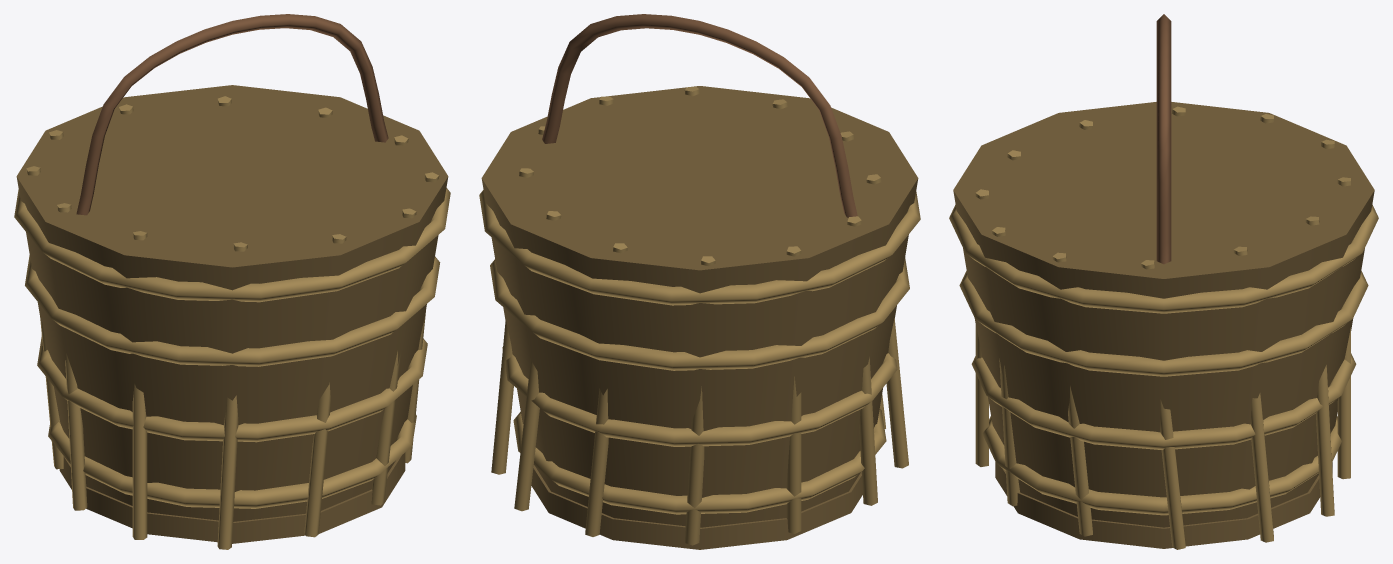
Rendered from stone_gatherer.glb.
The picture shows the model from 3 angles, left to right: view 1: azimuth 30°, elevation 25°; view 2: azimuth 150°, elevation 25°; view 3: azimuth 270°, elevation 25°; orthographic projection. The views are drawn at different scales.
Visible parts, largest first — view 1: part_0, part_1, part_2; view 2: part_0, part_1, part_2; view 3: part_0, part_1, part_2.
Part boxes in pixels (box(x1,y1,x2,y2)): part_0: box(16, 85, 448, 543); part_1: box(14, 96, 450, 549); part_2: box(76, 14, 388, 215); part_0: box(481, 86, 918, 549); part_1: box(479, 86, 920, 545); part_2: box(542, 14, 857, 217); part_0: box(953, 102, 1374, 548); part_1: box(949, 106, 1378, 549); part_2: box(1156, 14, 1171, 264).
Bounding box in the file's own units: 0.1734 × 0.1955 × 0.1734.
